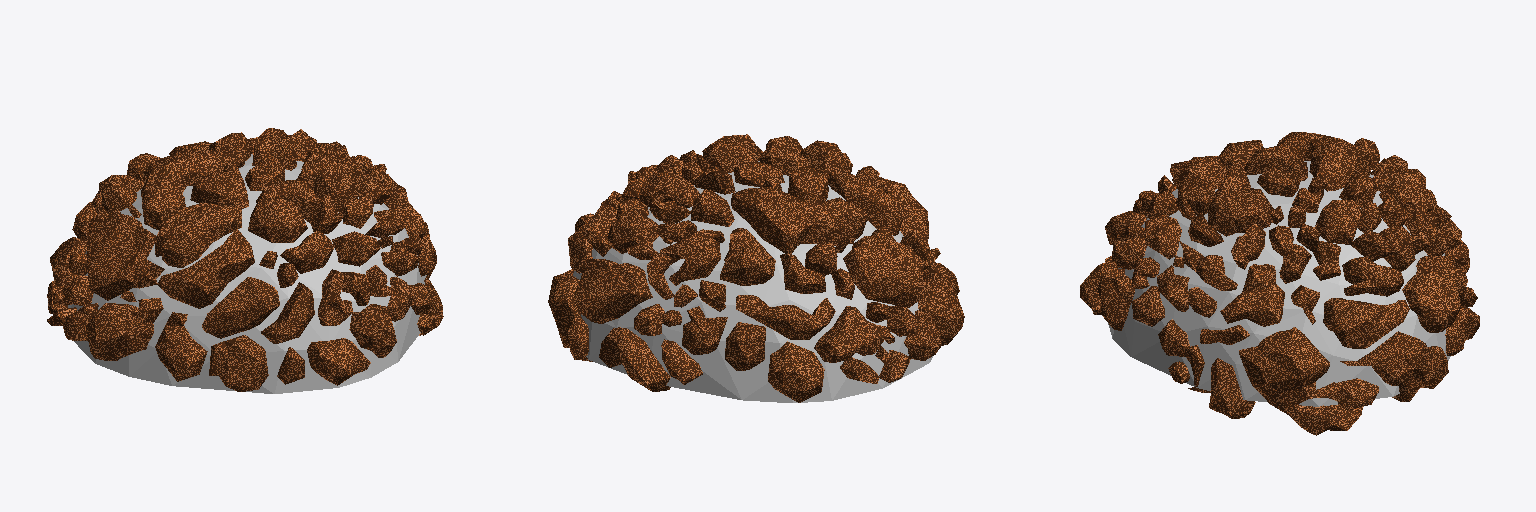
The picture shows the model from 3 angles: view 1: azimuth 30°, elevation 25°; view 2: azimuth 150°, elevation 25°; view 3: azimuth 270°, elevation 25°; orthographic projection.
Visible parts, largest first — view 1: Orbicella_annularis; view 2: Orbicella_annularis; view 3: Orbicella_annularis.
Part boxes in pixels (left/top/right/bottom): Orbicella_annularis: left=47, top=128, right=443, bottom=393; Orbicella_annularis: left=548, top=134, right=964, bottom=402; Orbicella_annularis: left=1080, top=132, right=1479, bottom=435.
Size of the model in its own units: 427 by 213 by 410.
2 materials, 1 textured.